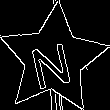N_N: (29, 30, 78, 89)
